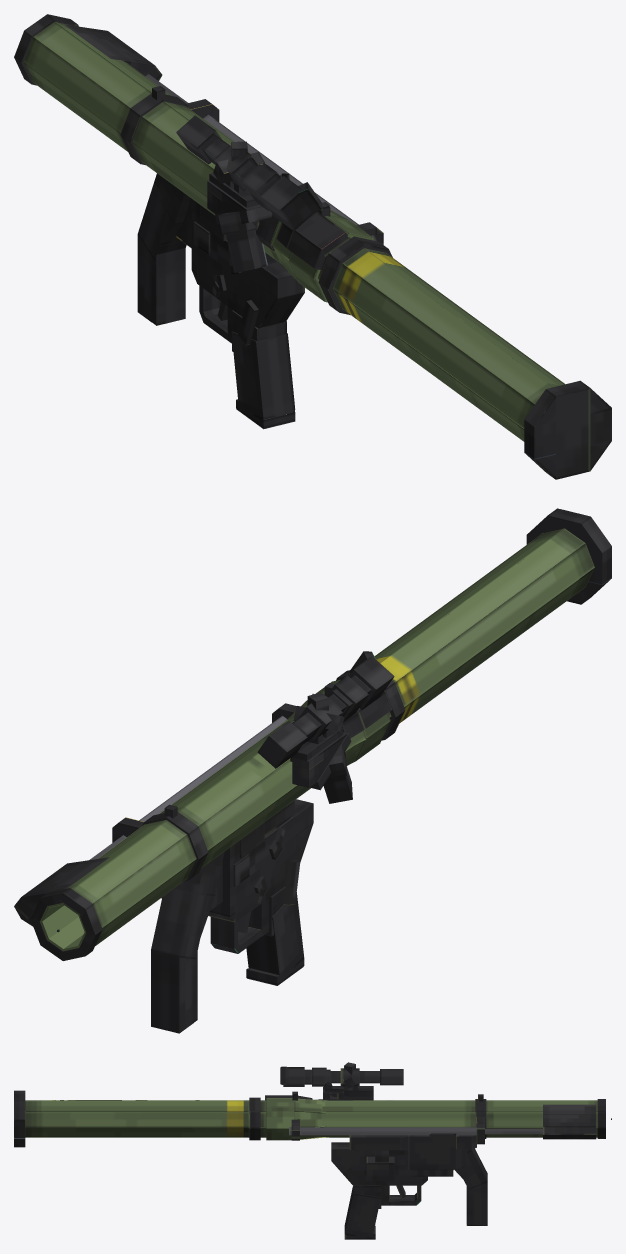
File: smaw.fbx
3 renders of one model, top to bottom at view 1: azimuth 30°, elevation 25°; view 2: azimuth 150°, elevation 25°; view 3: azimuth 270°, elevation 25°, orthographic. The views are drawn at different scales.
Parts seen in each view (by area): view 1: gun, rocket; view 2: gun, rocket; view 3: gun, rocket.
Part boxes in pixels (left/top/right/bottom): gun: left=14, top=14, right=392, bottom=429; rocket: left=333, top=248, right=611, bottom=479; gun: left=14, top=651, right=405, bottom=1033; rocket: left=374, top=508, right=611, bottom=723; gun: left=249, top=1062, right=605, bottom=1239; rocket: left=14, top=1090, right=249, bottom=1147.
Size of the model in its own units: 85.28 by 199 by 667.
